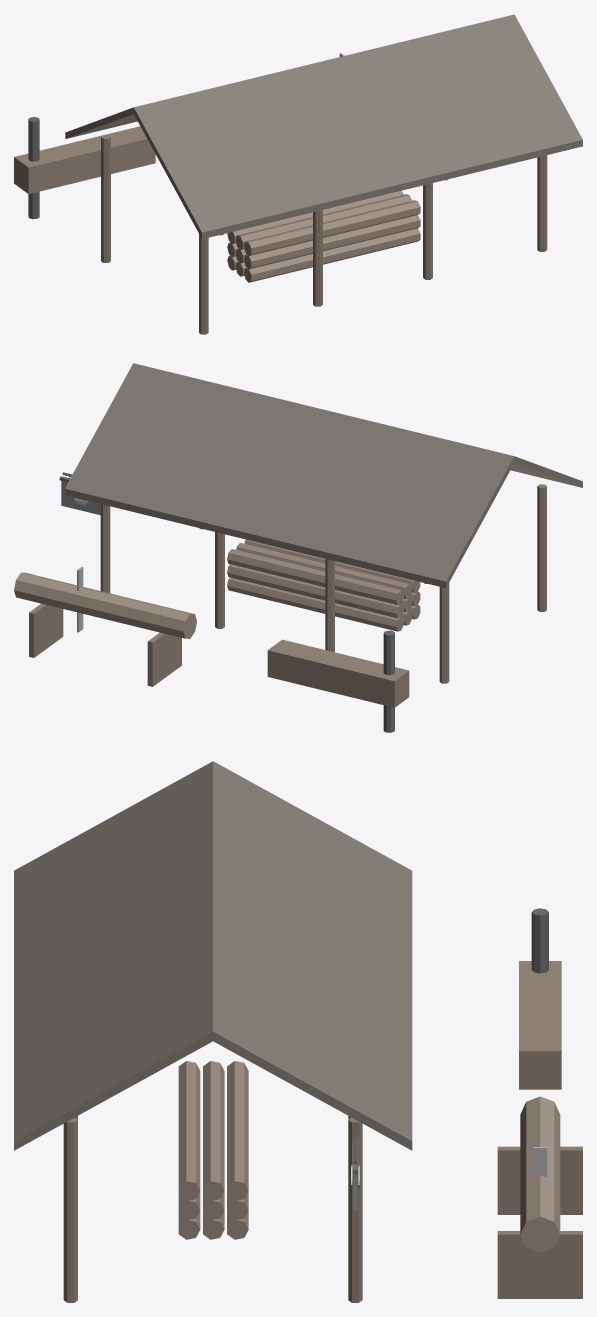
Rendered from shipyard_2.gltf.
3 views of the same model, one above another, from view 1: azimuth 30°, elevation 25°; view 2: azimuth 150°, elevation 25°; view 3: azimuth 270°, elevation 25° (orthographic). The views are drawn at different scales.
Parts seen in each view (by area): view 1: Body; view 2: Body; view 3: Body.
Boxes of the visible parts, <box> form: Body: <box>14,14,582,334</box>; Body: <box>14,363,582,732</box>; Body: <box>14,761,582,1302</box>.
Bounding box in the file's own units: 9.57 × 4.4 × 8.
